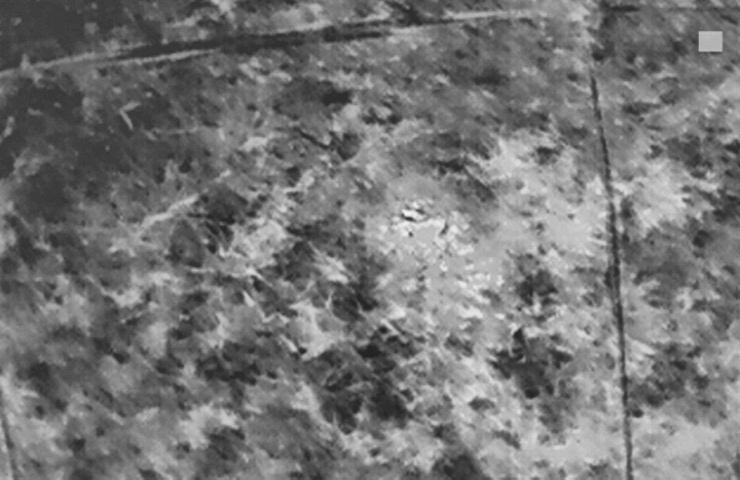landmines: (374, 195, 478, 278)
